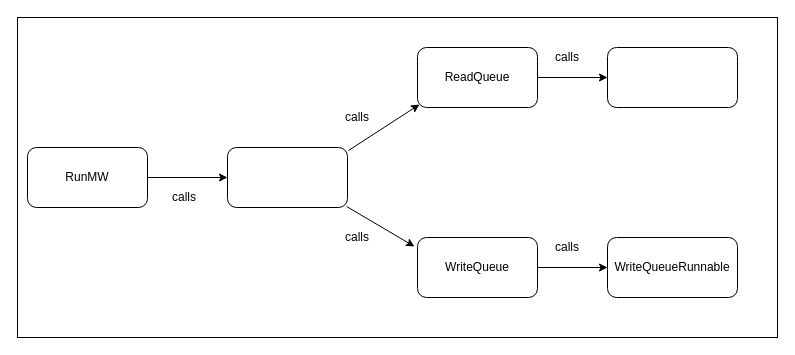
This 795x355 diagram has some shape labels left out. Each missing label, with the centre of its shape:
NioServer: point (287, 177)
ReadQueueRunnable: point (672, 77)
